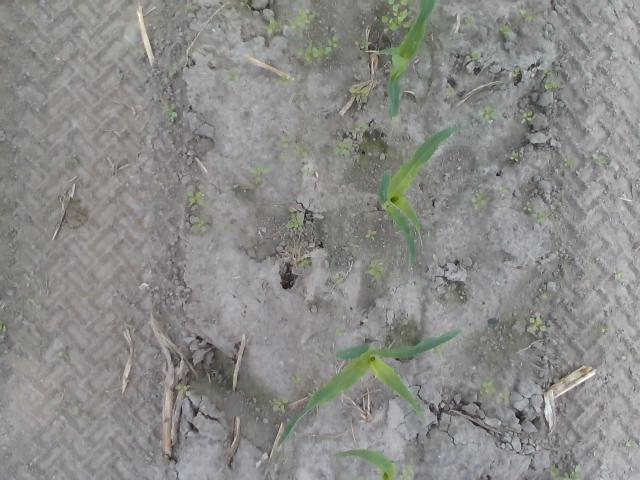Maize: (276, 328, 462, 448), (374, 122, 466, 272), (366, 0, 439, 121), (339, 449, 397, 480)
Weeds: (267, 7, 315, 38), (295, 36, 337, 67), (380, 0, 413, 35), (272, 134, 306, 162), (479, 380, 508, 404), (551, 465, 582, 480), (248, 166, 272, 184), (186, 190, 207, 206), (333, 140, 353, 156), (190, 214, 207, 232), (528, 316, 547, 332), (470, 193, 488, 209), (478, 105, 496, 121), (288, 214, 308, 228), (271, 396, 288, 412), (367, 262, 383, 279), (164, 103, 177, 123), (399, 464, 415, 480), (348, 86, 368, 96), (302, 166, 320, 177), (592, 154, 608, 166), (355, 122, 369, 135), (520, 111, 534, 123), (277, 74, 292, 85), (522, 200, 534, 213), (335, 326, 349, 337), (176, 383, 188, 395), (298, 256, 310, 268), (359, 40, 371, 52), (544, 79, 558, 89), (510, 150, 521, 162), (224, 72, 240, 80), (366, 228, 376, 240), (563, 156, 573, 168), (0, 319, 8, 334), (463, 15, 474, 25), (499, 24, 512, 32), (471, 50, 481, 60), (540, 212, 548, 222)
